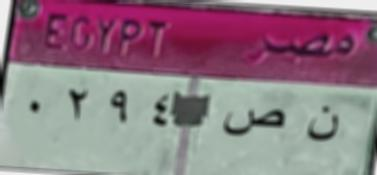0: (19, 82, 49, 127)
2: (56, 87, 94, 122)
4: (152, 86, 172, 133)
9: (106, 85, 134, 130)
noon: (302, 104, 344, 148)
saad: (225, 98, 291, 148)
